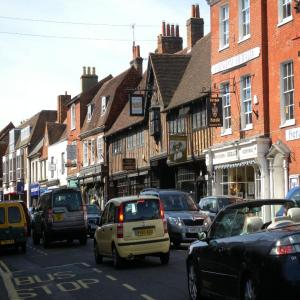Vehicle-registration-plate: (135, 228, 155, 237), (188, 227, 205, 235)
